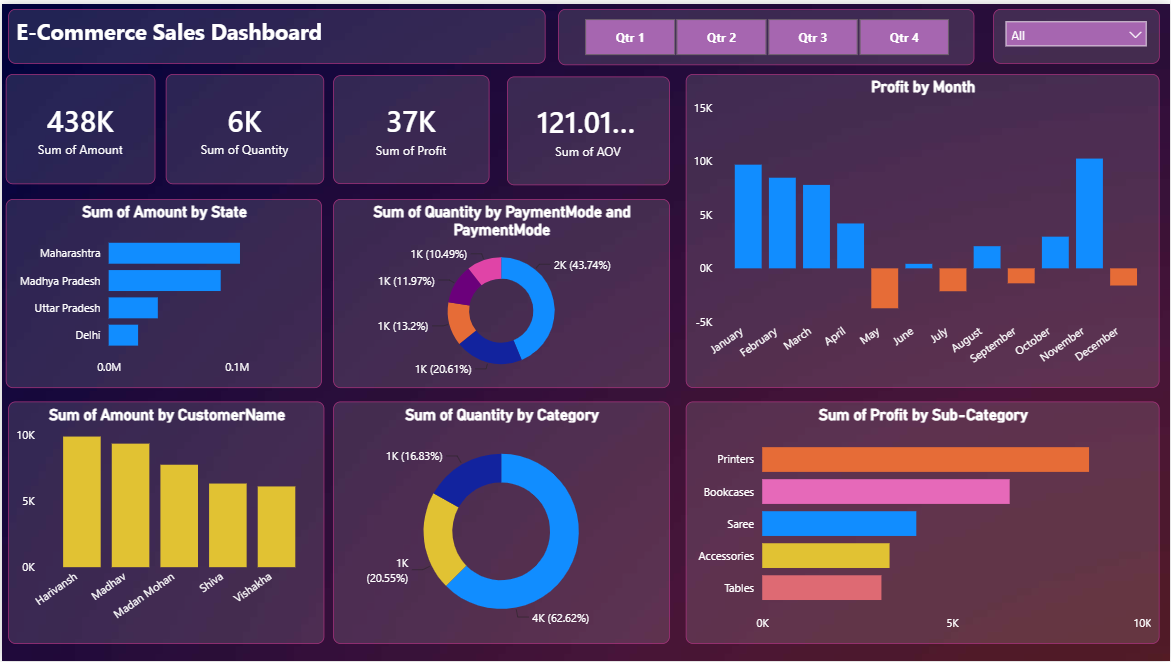

What the dashboard file says about the page in this screenshot:
{"tool":"powerbi","page":{"name":"Page 1","canvas":[1280,720],"ordinal":0},"visuals":[{"type":"columnChart","title":" Profit by Month","fields":{"Category":["Orders.Order Date.Variation.Date Hierarchy.Month"],"Y":["Sum(Details.Profit)"]},"box":[749.3,76.7,519.2,343.8],"z":1000},{"type":"barChart","fields":{"Y":["Sum(Details.Profit)"],"Category":["Details.Sub-Category"]},"box":[749.3,435.6,519.2,265.8],"z":2000},{"type":"donutChart","fields":{"Category":["Details.Category"],"Y":["Sum(Details.Quantity)"]},"box":[363,435.6,368.5,265.8],"z":3000},{"type":"donutChart","fields":{"Category":["Details.PaymentMode"],"Y":["Sum(Details.Quantity)"],"Series":["Details.PaymentMode"]},"box":[363,213.7,368.5,206.8],"z":4000},{"type":"cardVisual","fields":{"Data":["Sum(Details.Amount)"]},"box":[4.1,76.7,164.4,120.5],"z":4001},{"type":"cardVisual","fields":{"Data":["Sum(Details.Profit)"]},"box":[363,78.1,171.2,119.2],"z":4002},{"type":"cardVisual","fields":{"Data":["Sum(Details.AOV)"]},"box":[553.4,79.5,178.1,119.2],"z":4003},{"type":"cardVisual","fields":{"Data":["Sum(Details.Quantity)"]},"box":[179.5,76.7,174,120.5],"z":4004},{"type":"barChart","fields":{"Category":["Orders.State"],"Y":["Sum(Details.Amount)"]},"box":[4.1,213.7,346.6,206.8],"z":4005},{"type":"columnChart","fields":{"Category":["Orders.CustomerName"],"Y":["Sum(Details.Amount)"]},"box":[6.8,435.6,346.6,265.8],"z":4006},{"type":"slicer","fields":{"Values":["Orders.Order Date.Variation.Date Hierarchy.Quarter"]},"box":[609.6,5.5,456.2,61.6],"z":4007},{"type":"slicer","fields":{"Values":["Orders.State"]},"box":[1086.3,5.5,182.2,60.3],"z":4008},{"type":"textbox","box":[6.8,5.5,589,60.3],"z":4009}]}

Visuals, with their boxes in screenshot pixels (x1, y1, x2, y2), scaled from the page's 1280x720 canvas onto the 1171x662 screenshot:
" Profit by Month" columnChart: [685,71,1160,387]
barChart - Sum(Details.Profit) x Details.Sub-Category: [685,401,1160,645]
donutChart - Details.Category x Sum(Details.Quantity): [332,401,669,645]
donutChart - Details.PaymentMode x Sum(Details.Quantity): [332,196,669,387]
cardVisual - Sum(Details.Amount): [4,71,154,181]
cardVisual - Sum(Details.Profit): [332,72,489,181]
cardVisual - Sum(Details.AOV): [506,73,669,183]
cardVisual - Sum(Details.Quantity): [164,71,323,181]
barChart - Orders.State x Sum(Details.Amount): [4,196,321,387]
columnChart - Orders.CustomerName x Sum(Details.Amount): [6,401,323,645]
slicer - Orders.Order Date.Variation.Date Hierarchy.Quarter: [558,5,975,62]
slicer - Orders.State: [994,5,1160,60]
textbox: [6,5,545,60]
